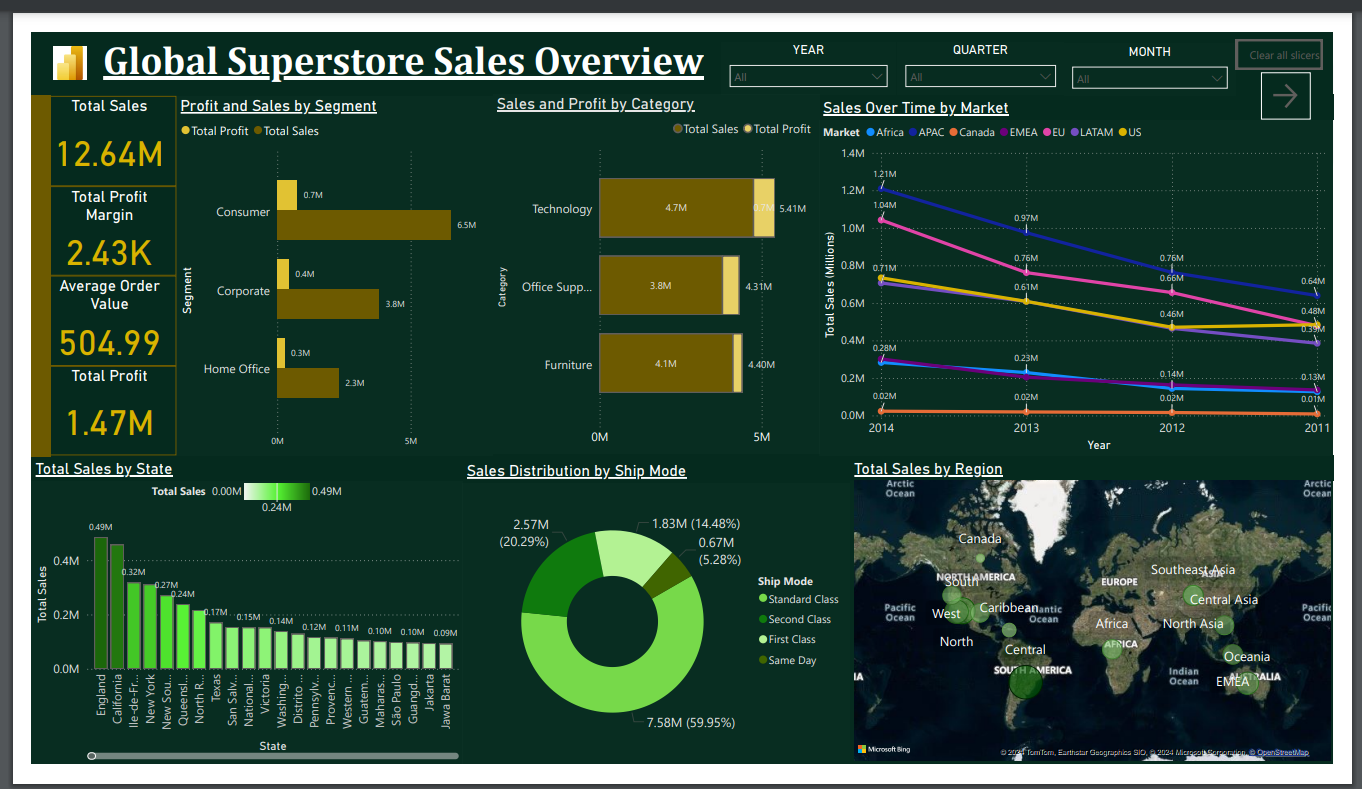

This screenshot's page, from the dashboard's own definition file:
{"tool":"powerbi","page":{"name":"Page 1","canvas":[1600,900],"ordinal":0},"visuals":[{"type":"map","fields":{"Size":["Orders.Total Sales"],"Category":["Orders.Region"]},"box":[1006,520,594.7,380.6],"z":0},{"type":"donutChart","title":"Sales Distribution by Ship Mode","fields":{"Category":["Orders.Ship Mode"],"Y":["Orders.Total Sales"]},"box":[530.2,521.7,475.8,378.9],"z":1000},{"type":"clusteredColumnChart","fields":{"Category":["Orders.State"],"Y":["Orders.Total Sales"]},"box":[0,521.7,530.2,378.9],"z":2000},{"type":"lineChart","title":" Sales Over Time by Market ","fields":{"Category":["Orders.Order Date.Variation.Date Hierarchy.Year"],"Y":["Orders.Total Sales"],"Series":["Orders.Market"]},"box":[968.6,76.5,618.5,445.2],"z":3000},{"type":"textbox","box":[83.3,0,764.7,90.1],"z":4000},{"type":"shape","box":[0,78.2,27.2,443.5],"z":5000},{"type":"card","title":"  Total Profit ","fields":{"Values":["Sum(Orders.Profit)"]},"box":[11.9,409.5,166.5,110.5],"z":6000},{"type":"barChart","title":" Sales and Profit by Category","fields":{"Y":["Orders.Total Sales","Orders.Total Profit"],"Category":["Orders.Category"]},"box":[566.5,75.7,401.6,442.3],"z":7000},{"type":"card","title":" Average Order Value","fields":{"Values":["Orders.Avg Order Value"]},"box":[11.9,299.1,166.5,110.5],"z":8000},{"type":"card","title":"Total Profit Margin  ","fields":{"Values":["Sum(Orders.Profit Margin)"]},"box":[11.9,188.6,166.5,110.5],"z":9000},{"type":"clusteredBarChart","title":"Profit and Sales by Segment","fields":{"Y":["Orders.Total Profit","Orders.Total Sales"],"Category":["Orders.Segment"]},"box":[178.5,77.6,388,442.3],"z":10000},{"type":"card","title":"Total Sales ","fields":{"Values":["Orders.Total Sales"]},"box":[11.9,78.2,166.5,110.5],"z":11000},{"type":"slicer","title":"YEAR","fields":{"Values":["Orders.Order Date.Variation.Date Hierarchy.Year"]},"box":[847.9,11.9,214.1,64.6],"z":12000},{"type":"slicer","title":"QUARTER","fields":{"Values":["Orders.Order Date.Variation.Date Hierarchy.Quarter"]},"box":[1063.7,11.9,205.6,64.6],"z":13000},{"type":"slicer","title":"MONTH","fields":{"Values":["Orders.Order Date.Variation.Date Hierarchy.Month"]},"box":[1269.4,13.6,210.7,64.6],"z":14000},{"type":"image","box":[11.9,11.9,71.4,51],"z":15000},{"type":"actionButton","box":[1510.6,49.3,61.2,57.8],"z":16000},{"type":"actionButton","box":[1480.1,8.5,107.1,37.4],"z":20000}]}

Visuals, with their boxes in screenshot pixels (x1, y1, x2, y2), scaled from the page's 1600x900 canvas onto the 1362x789 screenshot:
map - Orders.Total Sales x Orders.Region: (x1=856, y1=456, x2=1361, y2=788)
"Sales Distribution by Ship Mode" donutChart: (x1=451, y1=457, x2=856, y2=788)
clusteredColumnChart - Orders.State x Orders.Total Sales: (x1=0, y1=457, x2=451, y2=788)
" Sales Over Time by Market " lineChart: (x1=825, y1=67, x2=1351, y2=457)
textbox: (x1=71, y1=0, x2=722, y2=79)
shape: (x1=0, y1=69, x2=23, y2=457)
"  Total Profit " card: (x1=10, y1=359, x2=152, y2=456)
" Sales and Profit by Category" barChart: (x1=482, y1=66, x2=824, y2=454)
" Average Order Value" card: (x1=10, y1=262, x2=152, y2=359)
"Total Profit Margin  " card: (x1=10, y1=165, x2=152, y2=262)
"Profit and Sales by Segment" clusteredBarChart: (x1=152, y1=68, x2=482, y2=456)
"Total Sales " card: (x1=10, y1=69, x2=152, y2=165)
"YEAR" slicer: (x1=722, y1=10, x2=904, y2=67)
"QUARTER" slicer: (x1=905, y1=10, x2=1080, y2=67)
"MONTH" slicer: (x1=1081, y1=12, x2=1260, y2=69)
image: (x1=10, y1=10, x2=71, y2=55)
actionButton: (x1=1286, y1=43, x2=1338, y2=94)
actionButton: (x1=1260, y1=7, x2=1351, y2=40)
